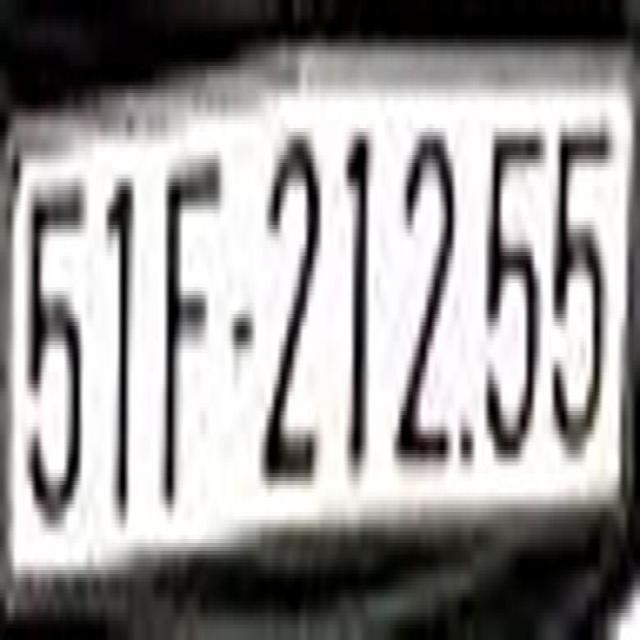1: (336, 124, 374, 500), (104, 175, 139, 528)
2: (388, 112, 454, 485), (264, 116, 320, 492)
5: (551, 109, 617, 478), (482, 109, 544, 474), (29, 167, 82, 536)
F: (161, 163, 221, 512)
